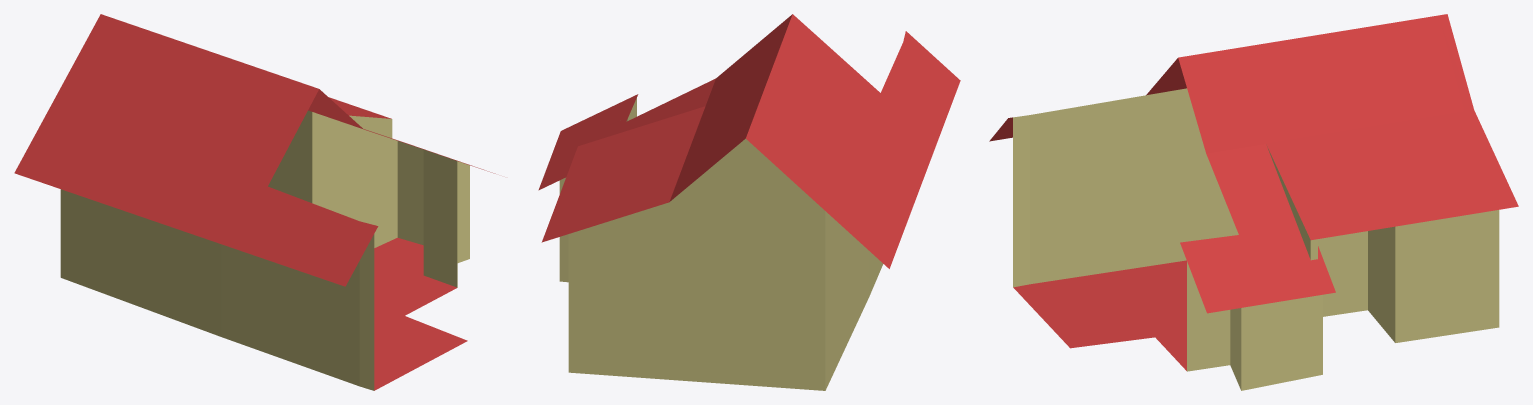
3 renders of one model, left to right at view 1: azimuth 30°, elevation 25°; view 2: azimuth 150°, elevation 25°; view 3: azimuth 270°, elevation 25°, orthographic. The views are drawn at different scales.
Bounding box in the file's own units: 25.81 × 28.7 × 14.51.
